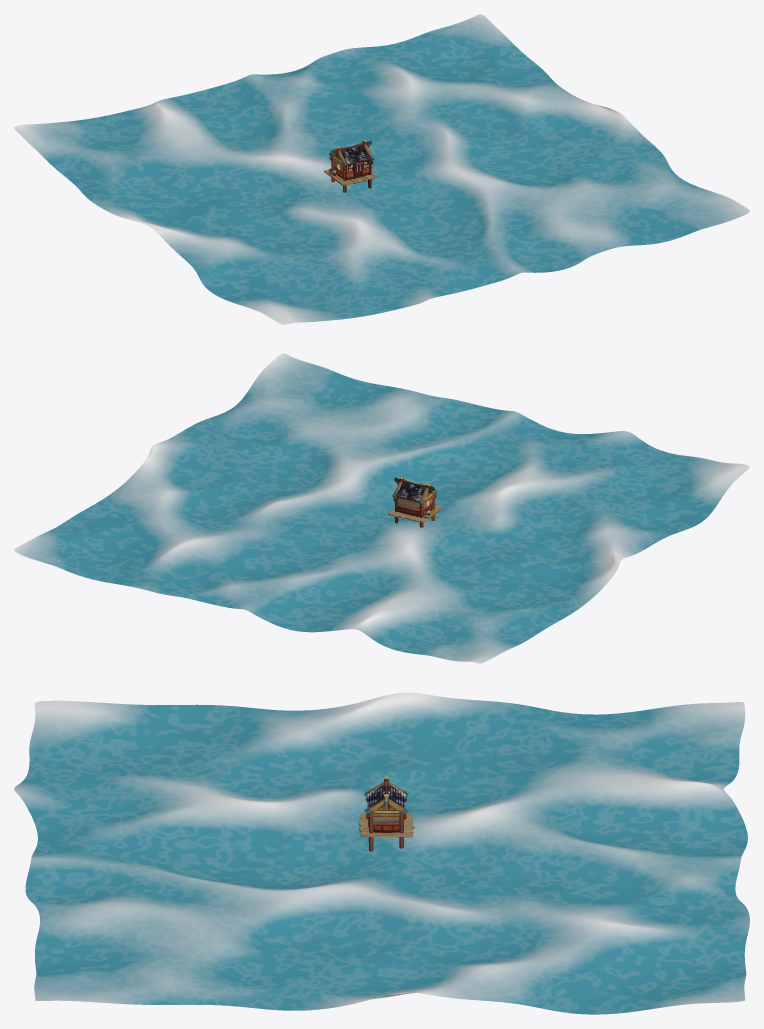
File: house_small.glb
3 views of the same model, one above another, from view 1: azimuth 30°, elevation 25°; view 2: azimuth 150°, elevation 25°; view 3: azimuth 270°, elevation 25° (orthographic). The views are drawn at different scales.
Parts seen in each view (by area): view 1: ocean_19; view 2: ocean_19; view 3: ocean_19, Plane.006_14, Cube_0, Plane_3.
Boxes of the visible parts, x1,y1,x2,y2 form: ocean_19: (14, 14, 749, 324); ocean_19: (14, 353, 749, 663); ocean_19: (14, 692, 749, 1014); Plane.006_14: (358, 813, 414, 837); Cube_0: (373, 804, 404, 832); Plane_3: (367, 784, 405, 807).
Bounding box in the file's own units: 51.34 × 4.75 × 51.83.
9 materials, 7 textured.
